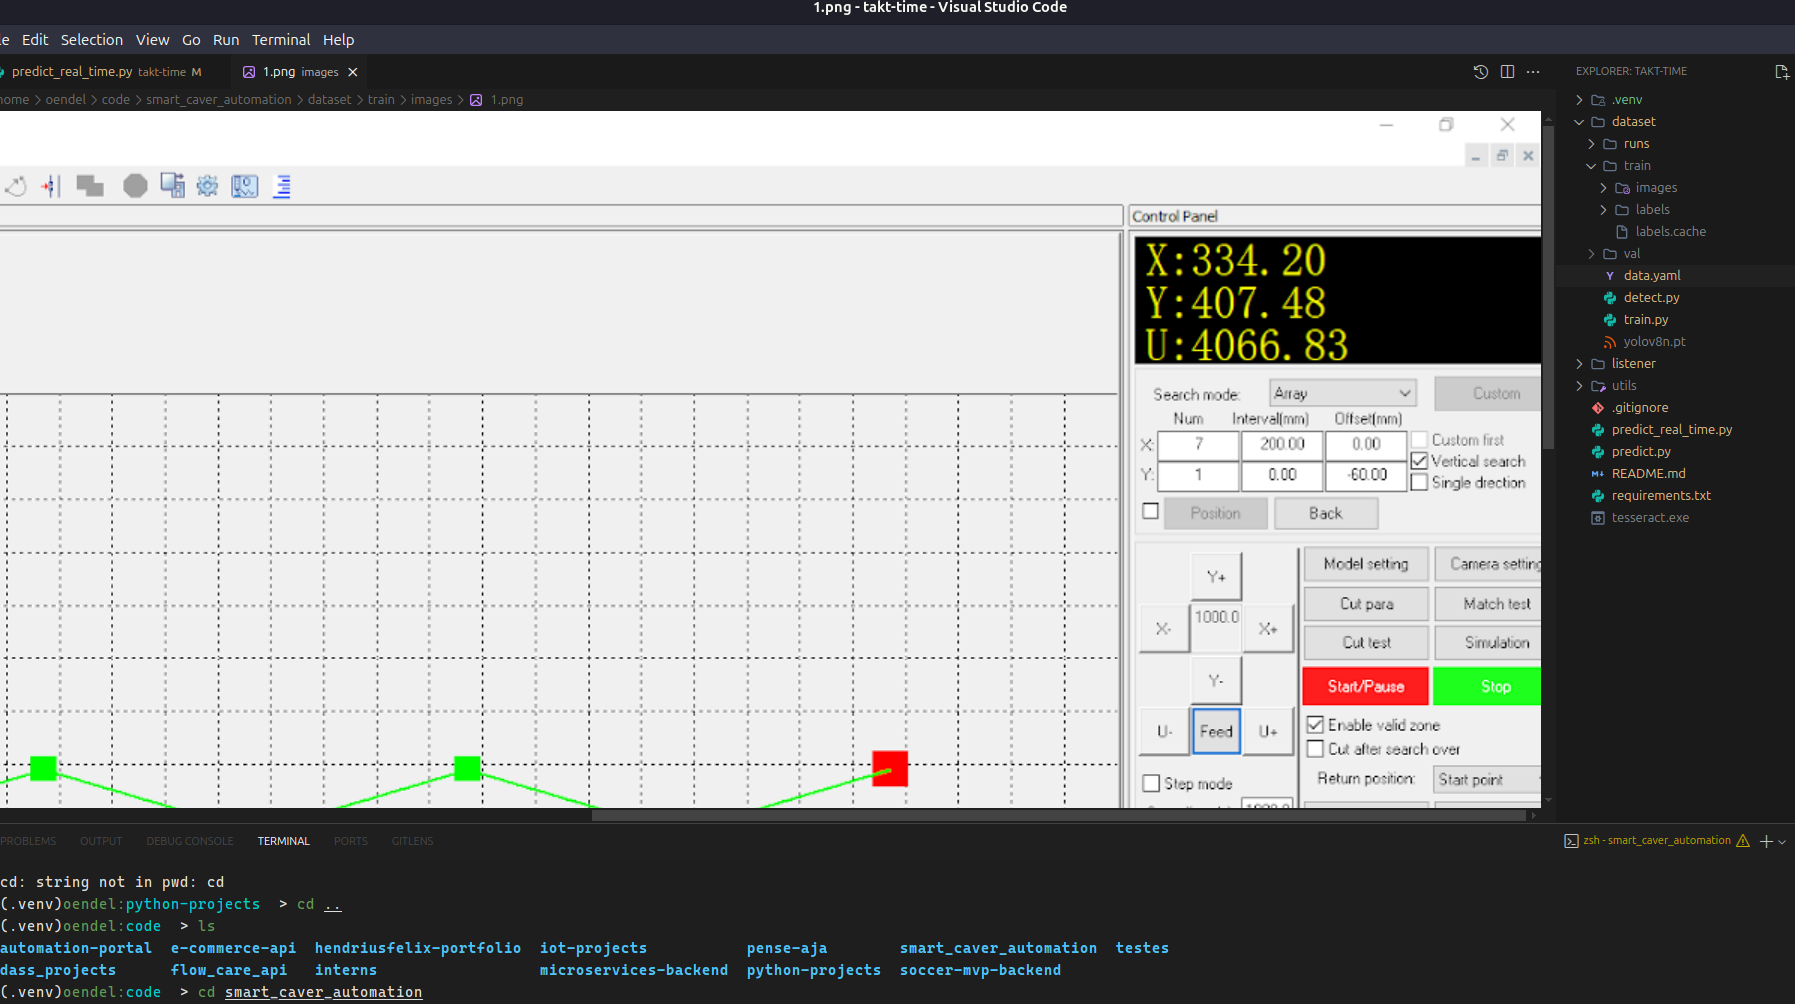start: (1303, 664, 1429, 706)
timer: (1326, 407, 1409, 492)
